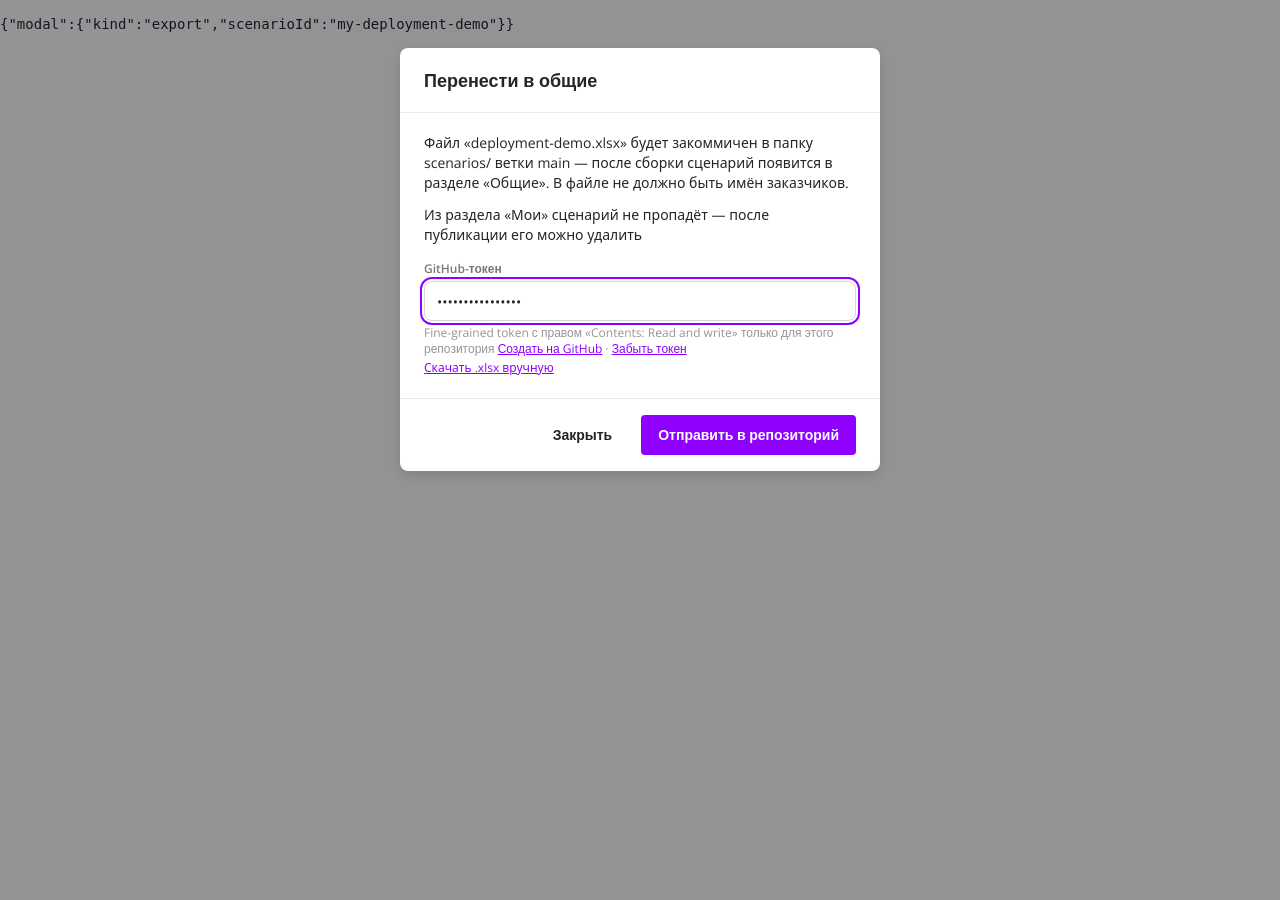
Test: ExportDialog — SPEC §4.2:255 (A5.3), ТК 34 › сохранённый токен: поле заполнено, primary доступна, «Забыть токен» очищает
Expected: the password field labelled "GitHub-токен" holds "github_pat_saved", [424,281,856,321]
Expected: the button "Отправить в репозиторий" is enabled, [641,415,856,455]
Step 1. Click the button "Забыть токен" → (649, 349), box [612,341,687,357]
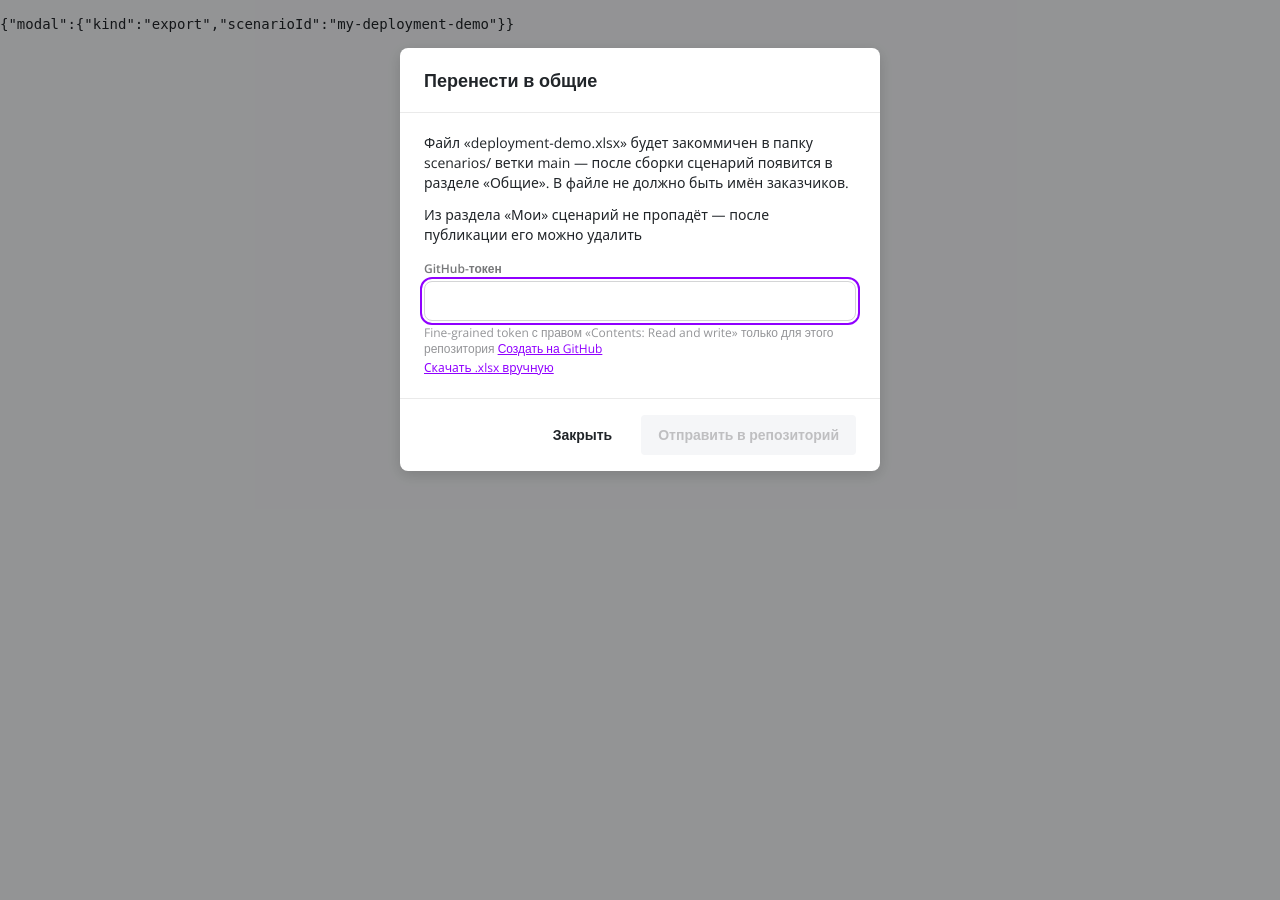
Expected: the password field labelled "GitHub-токен" is empty, [424,281,856,321]
Expected: the button "Отправить в репозиторий" is disabled, [641,415,856,455]
